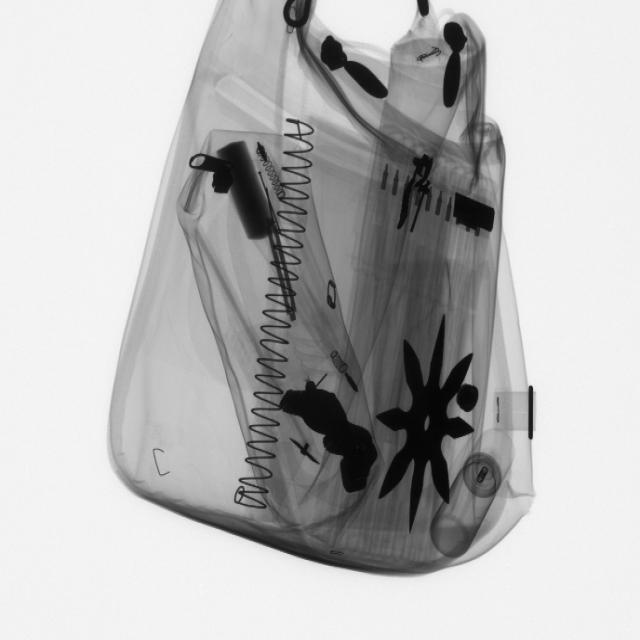BLADE: (269, 209, 297, 318)
SHURIKEN: (379, 313, 479, 528)
